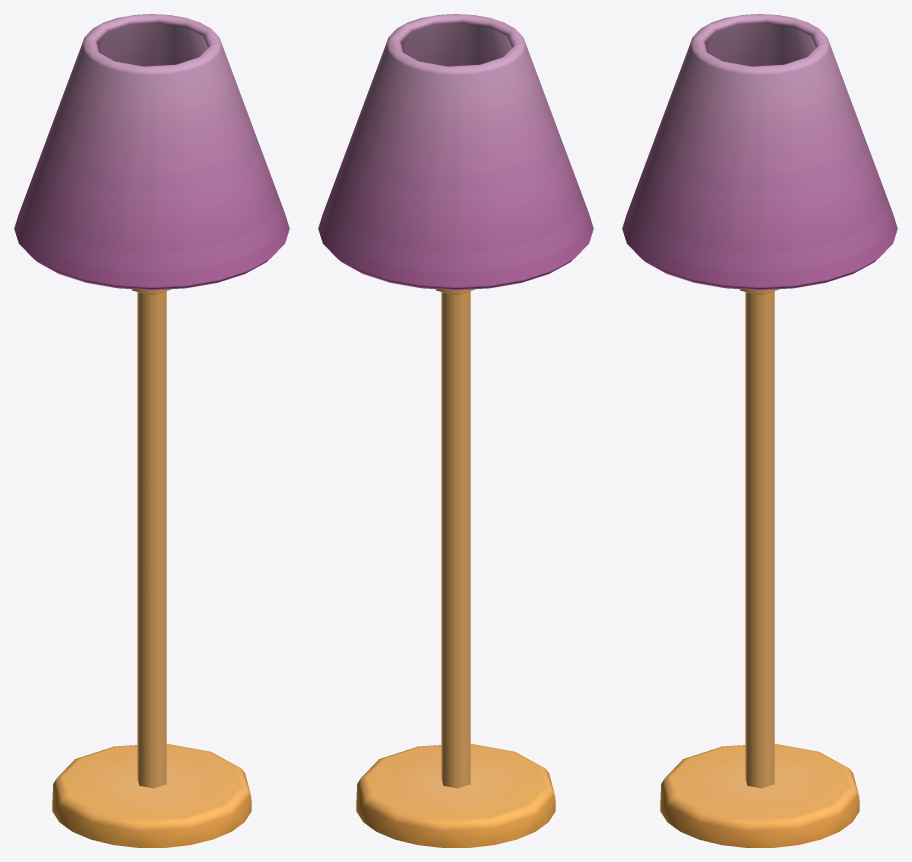
The model's file is Light_06.glb.
The picture shows the model from 3 angles, left to right: view 1: azimuth 30°, elevation 25°; view 2: azimuth 150°, elevation 25°; view 3: azimuth 270°, elevation 25°; orthographic projection.
Parts seen in each view (by area): view 1: Light_06; view 2: Light_06; view 3: Light_06.
Boxes of the visible parts, x1,y1,x2,y2 form: Light_06: (14,14,289,847); Light_06: (318,14,593,847); Light_06: (622,14,897,847).
Bounding box in the file's own units: 0.4818 × 1.48 × 0.4818.
1 material, 1 textured.
